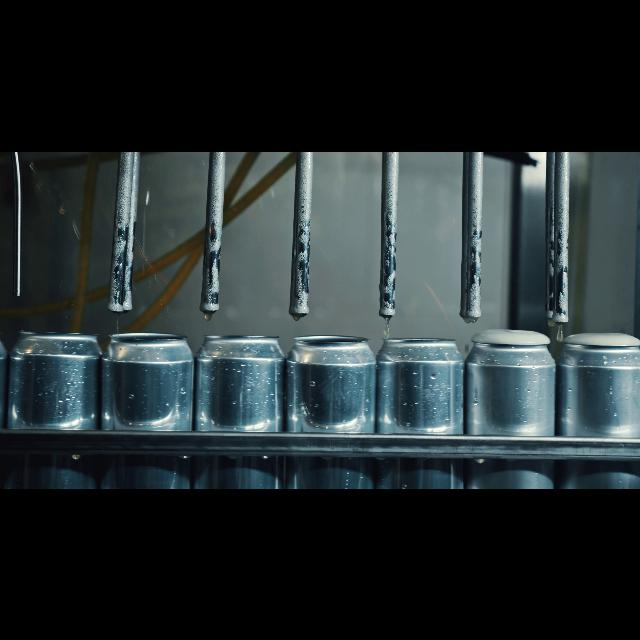empty: (17, 324, 101, 488), (200, 322, 282, 488), (109, 328, 191, 488)
